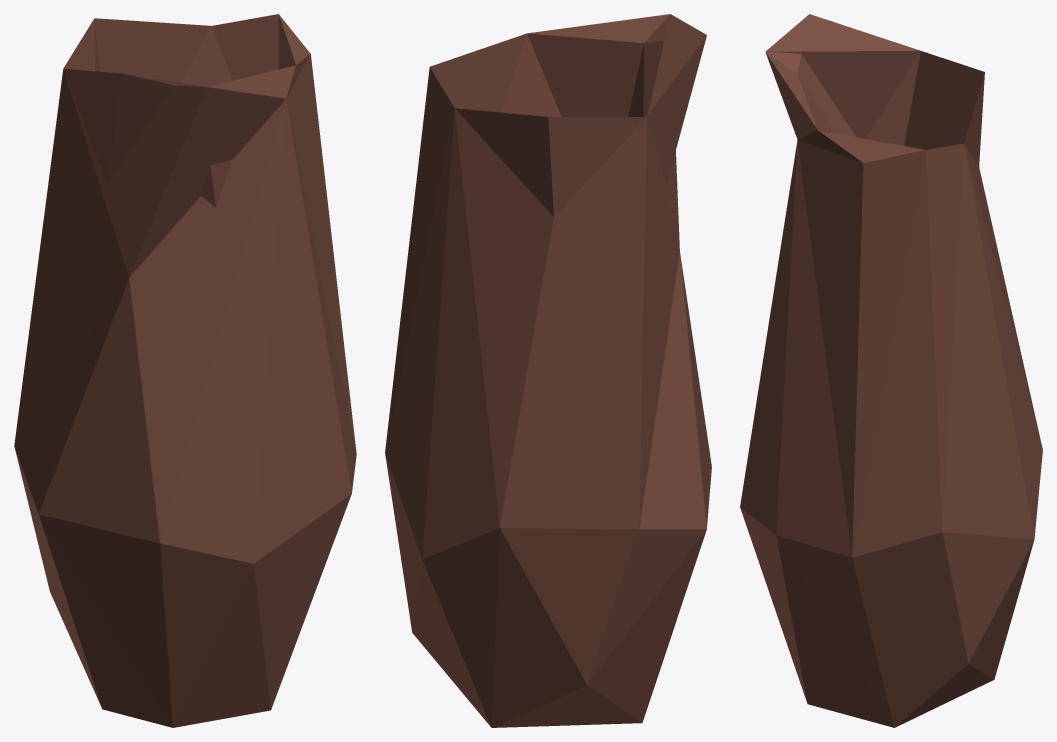
The model's file is ancient-vase.lod2.glb.
3 views of the same model, side by side, from view 1: azimuth 30°, elevation 25°; view 2: azimuth 150°, elevation 25°; view 3: azimuth 270°, elevation 25° (orthographic). The views are drawn at different scales.
Parts seen in each view (by area): view 1: Object_2; view 2: Object_2; view 3: Object_2.
Part boxes in pixels (x1,y1,x2,y2): Object_2: (14,14,356,727); Object_2: (385,14,711,727); Object_2: (740,14,1042,727).
Size of the model in its own units: 0.364 by 0.7827 by 0.3443.
